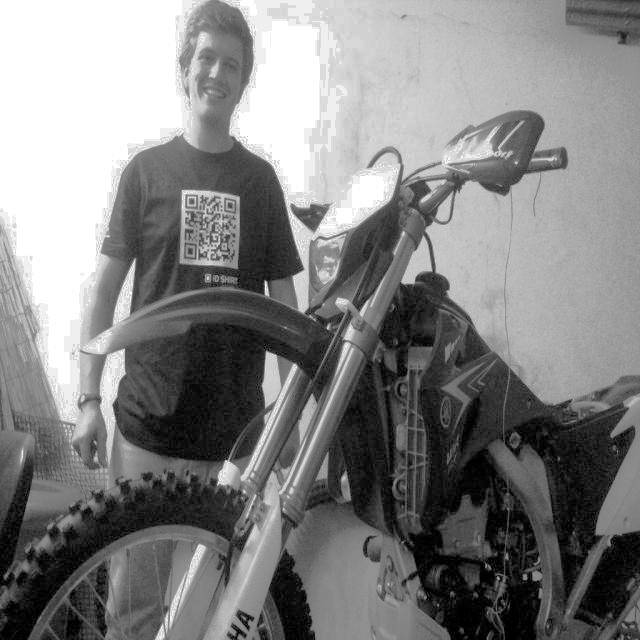qr_code: (184, 194, 236, 263)
